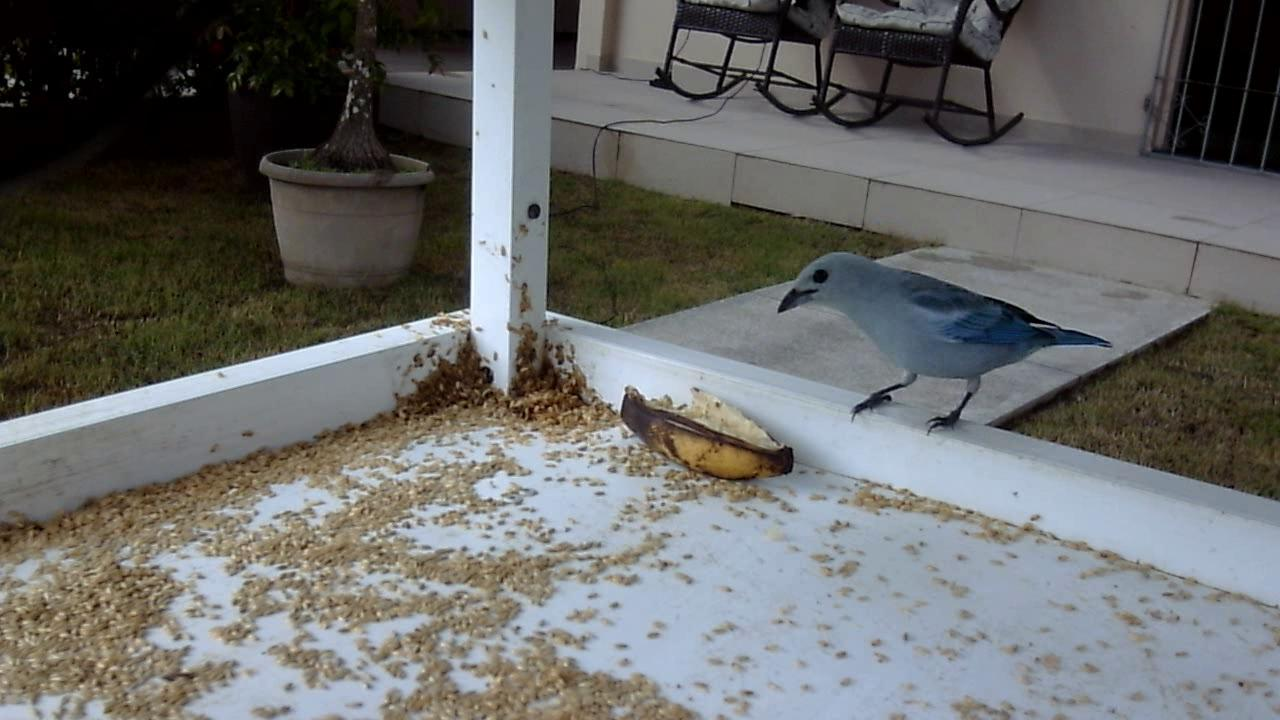sanhaco_da_amazonia: (775, 242, 1117, 445)
